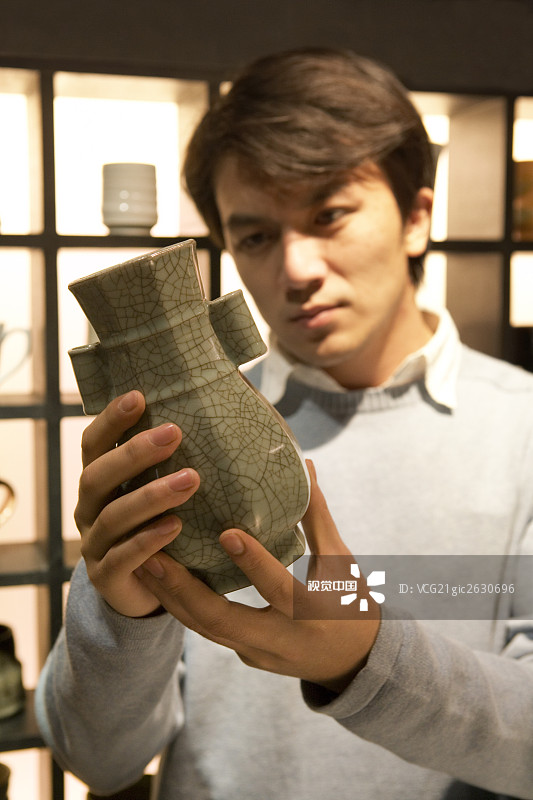no-phone: (137, 452, 397, 699), (42, 391, 207, 624)
